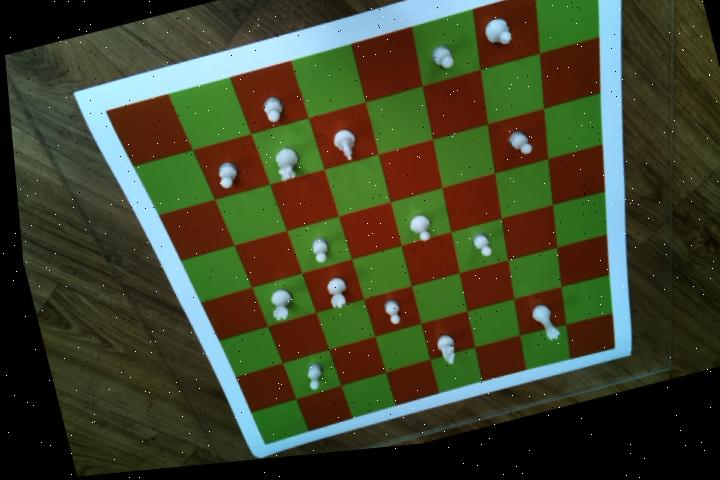chessboard-detect: (102, 0, 606, 449)
